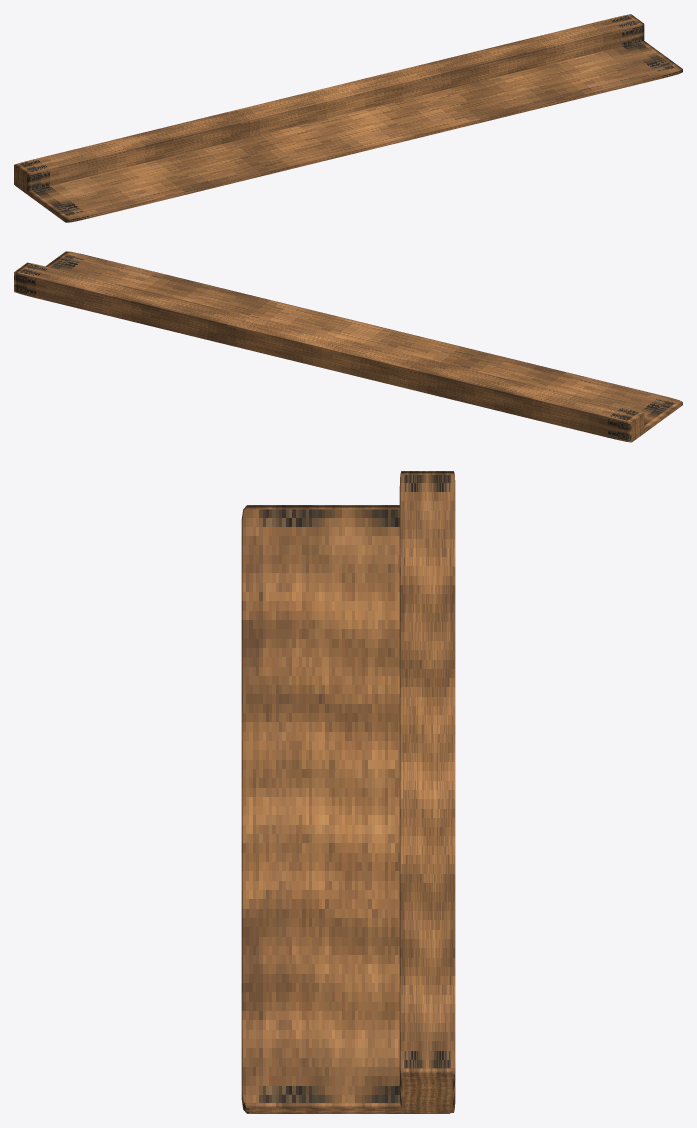
The model's file is sill.glb.
3 renders of one model, top to bottom at view 1: azimuth 30°, elevation 25°; view 2: azimuth 150°, elevation 25°; view 3: azimuth 270°, elevation 25°, orthographic. The views are drawn at different scales.
Visible parts, largest first — view 1: return, web; view 2: web, return; view 3: return, web.
Boxes of the visible parts, box(x1,y1,x2,y2) form: return: box(15, 41, 682, 222); web: box(14, 14, 644, 193); web: box(14, 262, 644, 442); return: box(27, 251, 682, 441); return: box(241, 505, 450, 1113); web: box(399, 471, 455, 1112).
Size of the model in its own units: 1.4 by 0.045 by 0.21.
Materials: 1 (1 with a texture image).
